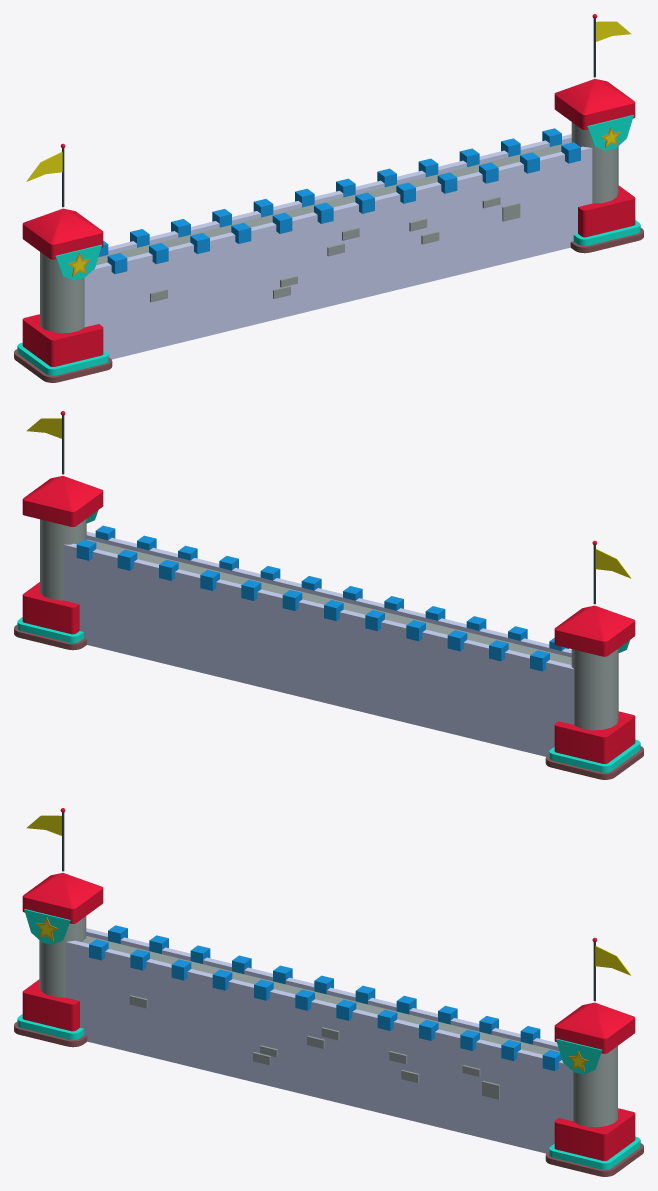
Rendered from CastleWall2.fbx.
3 renders of one model, top to bottom at view 1: azimuth 30°, elevation 25°; view 2: azimuth 150°, elevation 25°; view 3: azimuth 330°, elevation 25°, orthographic.
Parts seen in each view (by area): view 1: Cube.032; view 2: Cube.032; view 3: Cube.032.
Boxes of the visible parts, bbox=[...] form: Cube.032: bbox=[14, 14, 643, 382]; Cube.032: bbox=[14, 411, 643, 779]; Cube.032: bbox=[14, 808, 643, 1176].
Bounding box in the file's own units: 605 × 209 × 67.55.
Materials: 1 (1 with a texture image).
